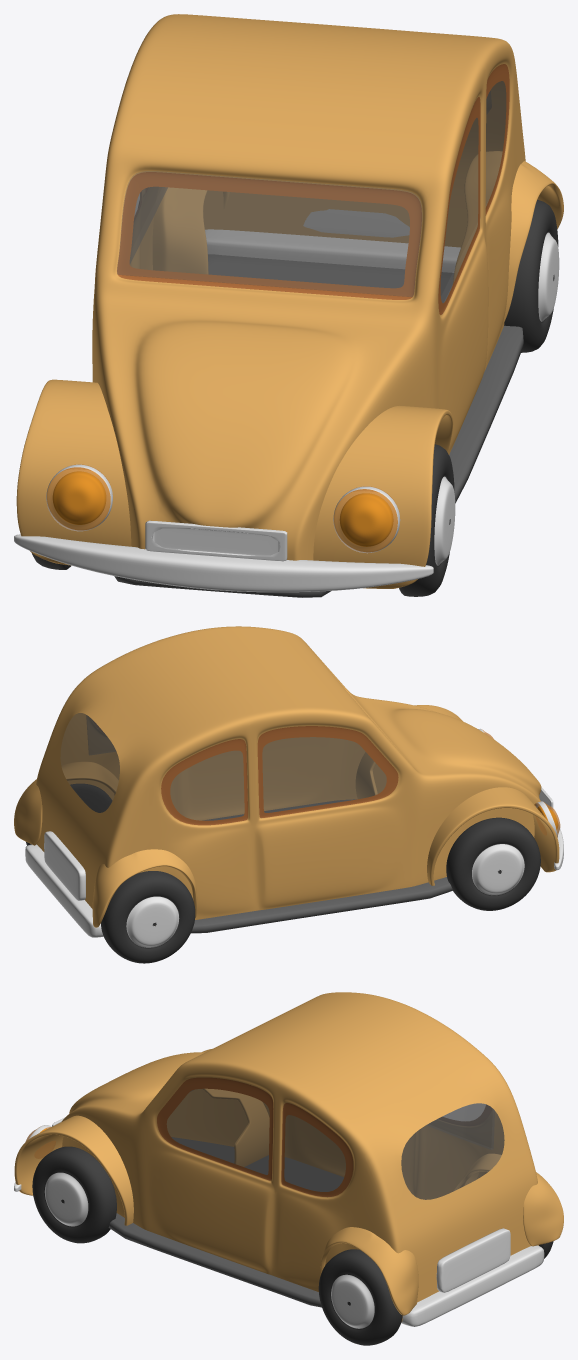
Rendered from car-3d-animated-icon-143934906788.glb.
The picture shows the model from 3 angles, top to bottom: view 1: azimuth 30°, elevation 25°; view 2: azimuth 150°, elevation 25°; view 3: azimuth 270°, elevation 25°; orthographic projection. The views are drawn at different scales.
Parts seen in each view (by area): view 1: body.008, body.004, body, body.001, body.006, body.005, glass, plate, body.007, tire, body.002, body.003 (+5 smaller); view 2: body.008, glass, tire.003, tire.001, body.005, body.001, body.003, body.002, body.007, plate, body, tire (+1 smaller); view 3: body.008, glass, tire.002, tire, body.005, body, body.002, body.007, body.003, plate, body.001.
Part boxes in pixels (x1,y1,x2,y2): body.008: (92,14,525,560); body.004: (117,171,422,296); body: (313,406,453,588); body.001: (16,379,131,565); body.006: (14,534,433,592); body.005: (114,254,523,597); glass: (130,81,506,302); plate: (145,209,409,561); body.007: (205,229,460,272); tire: (504,199,559,352); body.002: (452,151,563,324); body.003: (153,187,229,274); body.008: (36,626,541,919); glass: (60,713,386,820); tire.003: (446,817,540,910); tire.001: (101,871,195,963); body.005: (191,799,452,933); body.001: (427,787,559,885); body.003: (92,849,197,927); body.002: (14,762,118,845); body.007: (25,844,103,937); plate: (44,787,553,900); body: (356,705,462,798); tire: (26,784,111,845); body.008: (61,992,538,1321); glass: (166,1088,504,1199); tire.002: (32,1146,116,1243); tire: (318,1249,402,1345); body.005: (108,1137,343,1307); body: (14,1115,133,1225); body.002: (320,1227,418,1315); body.007: (401,1245,544,1326); body.003: (453,1154,563,1246); plate: (52,1117,510,1292); body.001: (202,1049,269,1166).
Bounding box in the file's own units: 2.56 × 1.24 × 2.69.
